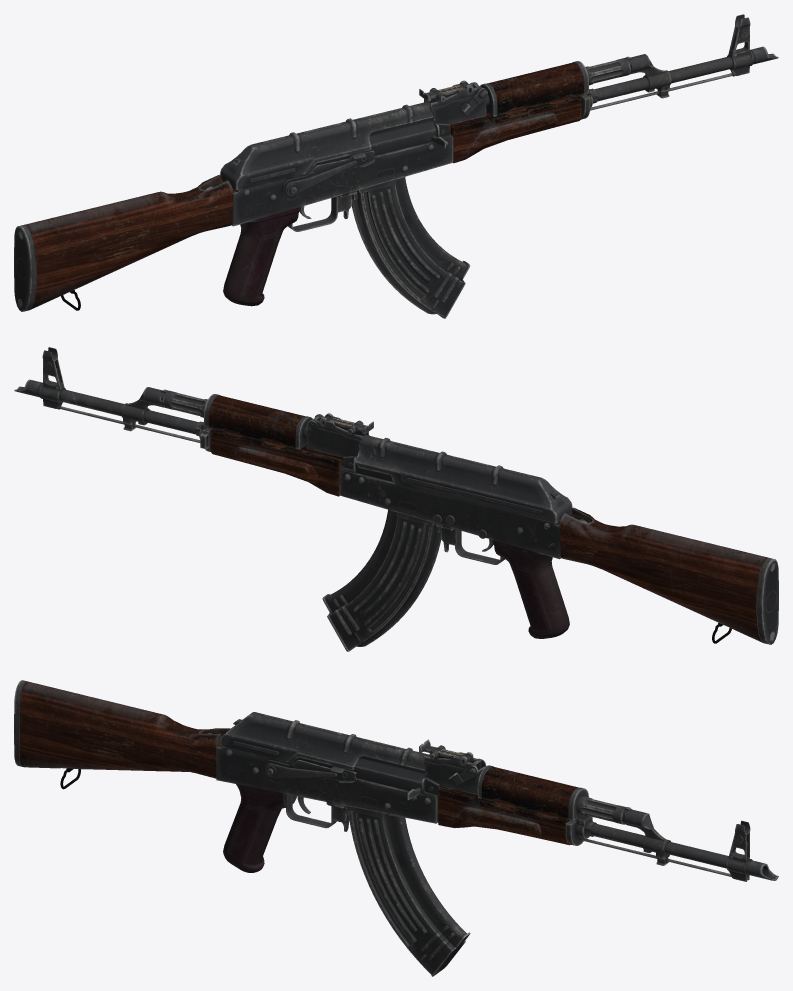
3 renders of one model, top to bottom at view 1: azimuth 30°, elevation 25°; view 2: azimuth 150°, elevation 25°; view 3: azimuth 330°, elevation 25°, orthographic.
Parts seen in each view (by area): view 1: l_stockWood_low_Material__44_0_1, bm_magazine_low_Material__44_0_1, u_dustcover_low_Material__44_0_1, m_base_low_Material__44_0_1, r_woodLower_low_Material__44_0_1, bl_grip_low_Material__44_0_1, ur_woodUpper_low_Material__44_0_1, l_stockMetal_low_Material__44_0_1, u_dustcoverHolder_low_Material__44_0_1, r_barrel_low_Material__44_0_1, m_safetyswitch_low_Material__44_0_1, r_numberBase_low_Material__44_0_1 (+4 smaller); view 2: l_stockWood_low_Material__44_0_1, u_dustcover_low_Material__44_0_1, bm_magazine_low_Material__44_0_1, m_base_low_Material__44_0_1, r_woodLower_low_Material__44_0_1, bl_grip_low_Material__44_0_1, ur_woodUpper_low_Material__44_0_1, l_stockMetal_low_Material__44_0_1, r_barrel_low_Material__44_0_1, r_numberBase_low_Material__44_0_1, r_barrelAim_low_Material__44_0_1, r_Connector_low_Material__44_0_1 (+2 smaller); view 3: l_stockWood_low_Material__44_0_1, bm_magazine_low_Material__44_0_1, u_dustcover_low_Material__44_0_1, m_base_low_Material__44_0_1, r_woodLower_low_Material__44_0_1, bl_grip_low_Material__44_0_1, ur_woodUpper_low_Material__44_0_1, u_dustcoverHolder_low_Material__44_0_1, r_barrel_low_Material__44_0_1, m_safetyswitch_low_Material__44_0_1, r_numberBase_low_Material__44_0_1, r_Connector_low_Material__44_0_1 (+5 smaller).
Boxes of the visible parts, box(x1,y1,x2,y2) form: l_stockWood_low_Material__44_0_1: box(24, 174, 233, 309); bm_magazine_low_Material__44_0_1: box(351, 177, 467, 317); u_dustcover_low_Material__44_0_1: box(220, 101, 433, 190); m_base_low_Material__44_0_1: box(221, 132, 453, 226); r_woodLower_low_Material__44_0_1: box(449, 96, 581, 163); bl_grip_low_Material__44_0_1: box(223, 207, 300, 306); ur_woodUpper_low_Material__44_0_1: box(487, 62, 584, 115); l_stockMetal_low_Material__44_0_1: box(14, 225, 35, 311); u_dustcoverHolder_low_Material__44_0_1: box(311, 118, 436, 170); r_barrel_low_Material__44_0_1: box(594, 56, 733, 101); m_safetyswitch_low_Material__44_0_1: box(281, 150, 375, 198); r_numberBase_low_Material__44_0_1: box(431, 82, 486, 124); l_stockWood_low_Material__44_0_1: box(559, 507, 768, 642); u_dustcover_low_Material__44_0_1: box(355, 434, 572, 523); bm_magazine_low_Material__44_0_1: box(325, 509, 441, 649); m_base_low_Material__44_0_1: box(339, 464, 571, 559); r_woodLower_low_Material__44_0_1: box(210, 428, 343, 496); bl_grip_low_Material__44_0_1: box(492, 540, 569, 638); ur_woodUpper_low_Material__44_0_1: box(208, 395, 305, 448); l_stockMetal_low_Material__44_0_1: box(757, 558, 778, 644); r_barrel_low_Material__44_0_1: box(59, 389, 198, 434); r_numberBase_low_Material__44_0_1: box(306, 415, 369, 457); r_barrelAim_low_Material__44_0_1: box(41, 347, 65, 408); r_Connector_low_Material__44_0_1: box(121, 387, 167, 423); l_stockWood_low_Material__44_0_1: box(19, 681, 230, 778); bm_magazine_low_Material__44_0_1: box(347, 810, 466, 974); u_dustcover_low_Material__44_0_1: box(220, 712, 429, 770); m_base_low_Material__44_0_1: box(216, 744, 451, 823); r_woodLower_low_Material__44_0_1: box(438, 788, 571, 845); bl_grip_low_Material__44_0_1: box(223, 784, 296, 872); ur_woodUpper_low_Material__44_0_1: box(481, 766, 578, 819); u_dustcoverHolder_low_Material__44_0_1: box(293, 756, 425, 793); r_barrel_low_Material__44_0_1: box(591, 823, 728, 868); m_safetyswitch_low_Material__44_0_1: box(263, 759, 357, 782); r_numberBase_low_Material__44_0_1: box(423, 758, 486, 795); r_Connector_low_Material__44_0_1: box(622, 807, 670, 854).
Size of the model in its own units: 192 by 54.79 by 13.56.
Materials: 1 (1 with a texture image).
